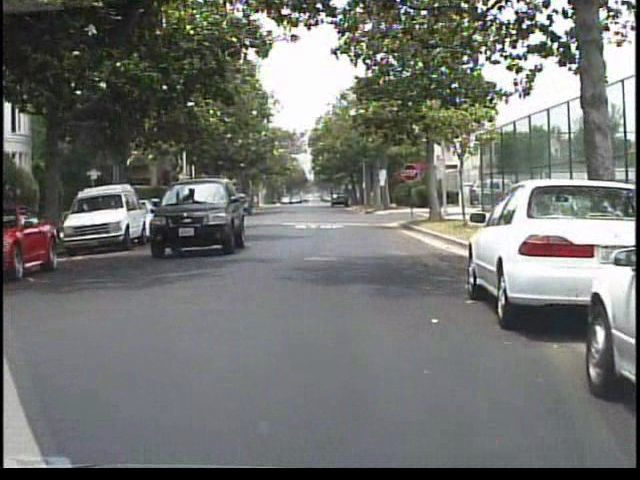person: (244, 182, 265, 225)
